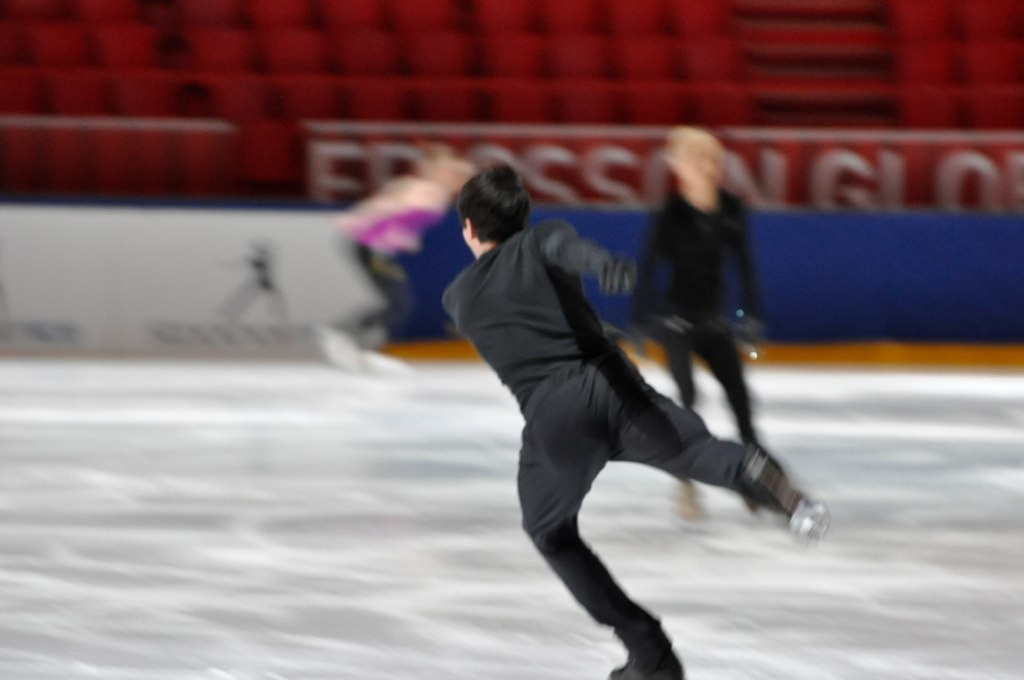Person: (442, 158, 828, 679), (627, 122, 780, 467), (340, 141, 463, 350)
